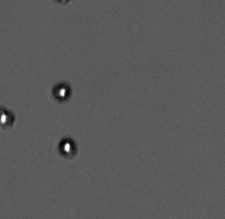Living Cell: (56, 135, 78, 158), (51, 81, 72, 101), (1, 106, 14, 131)
